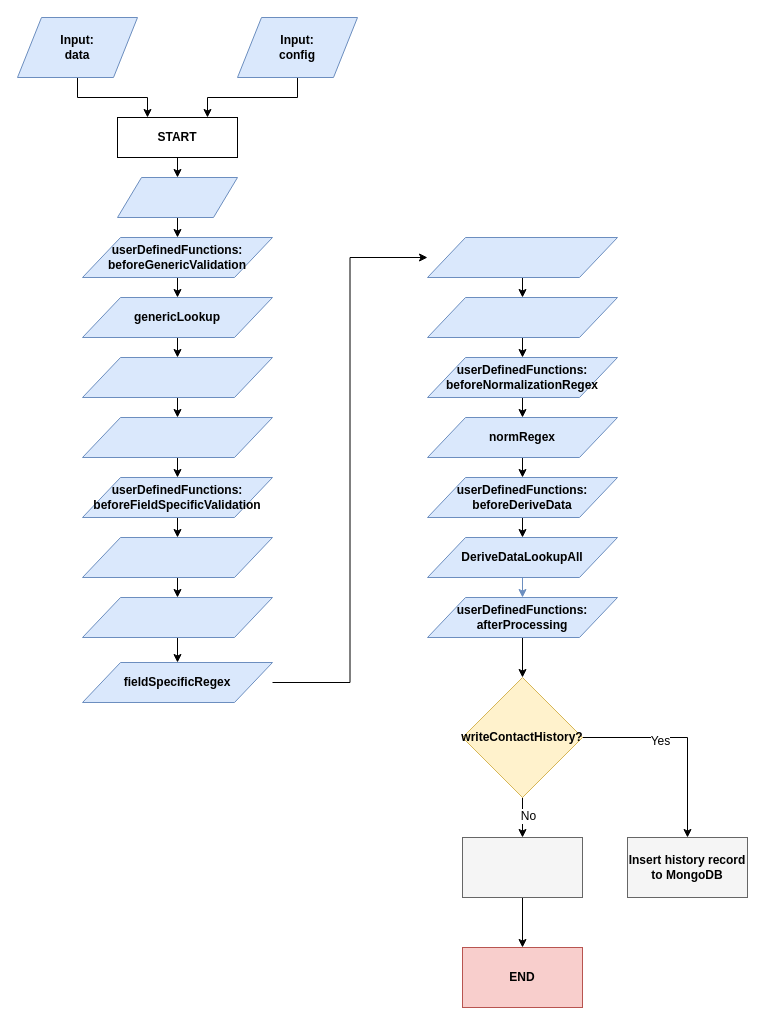
Image size: 765x1025. Some labels were removed from this diagram. Here are the shapes that lost their labels. From the top down, the centre of each, then its label:
(x=177, y=197): Setup history collector
(x=522, y=257): userDefinedFunctions: beforeNormalization
(x=522, y=317): normLookup
(x=177, y=377): userDefinedFunctions: beforeGenericRegex
(x=177, y=437): genericRegex
(x=177, y=557): fieldSpecificLookup
(x=177, y=617): userDefinedFunctions: beforeFieldSpecificRegex
(x=522, y=867): Return data, historyId
